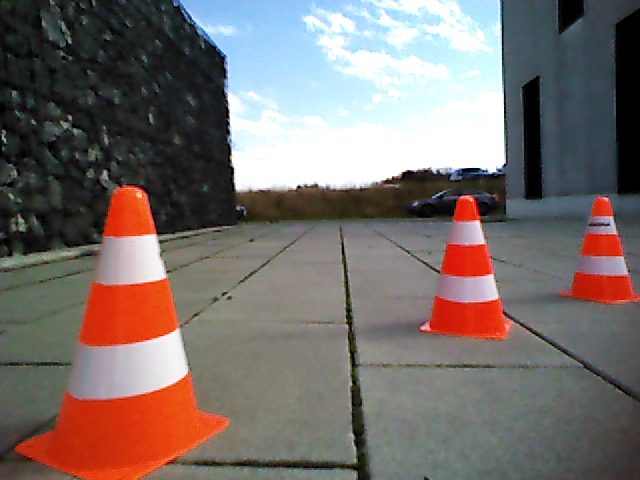orangeconesmall: (52, 184, 201, 467), (431, 196, 509, 334), (571, 196, 636, 301)
